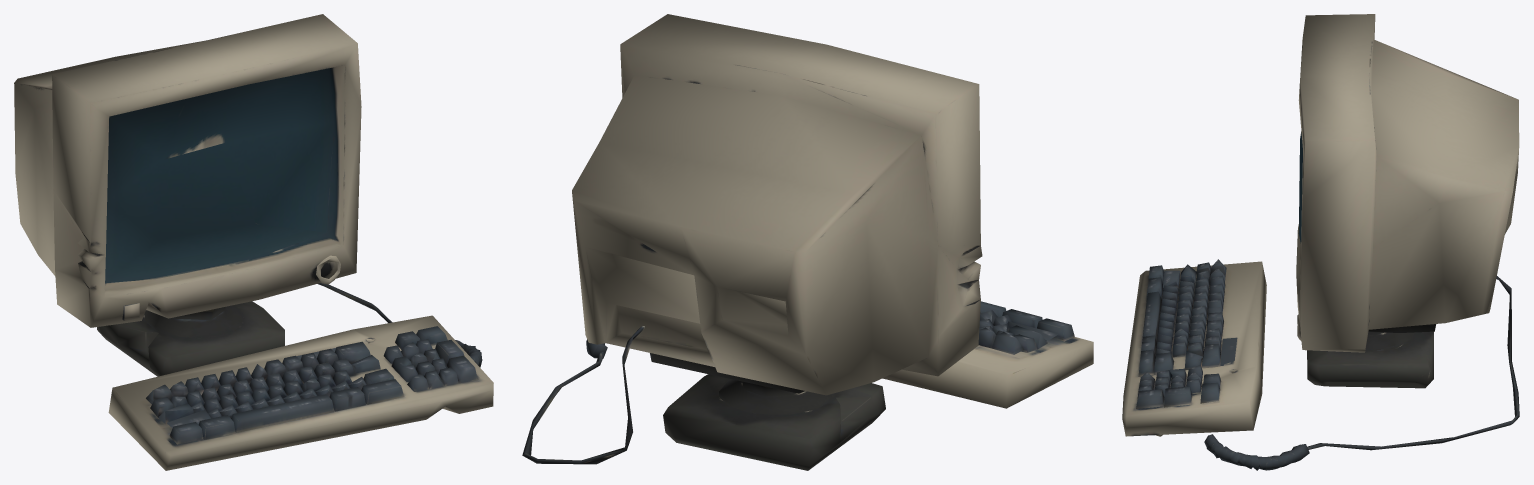
Rendered from crt_monitor.glb.
3 renders of one model, left to right at view 1: azimuth 30°, elevation 25°; view 2: azimuth 150°, elevation 25°; view 3: azimuth 270°, elevation 25°, orthographic. The views are drawn at different scales.
Visible parts, largest first — view 1: crt_monitor_LOD0; view 2: crt_monitor_LOD0; view 3: crt_monitor_LOD0.
Boxes of the visible parts, left/top/right/bottom form: crt_monitor_LOD0: left=14, top=14, right=493, bottom=470; crt_monitor_LOD0: left=522, top=14, right=1093, bottom=470; crt_monitor_LOD0: left=1122, top=14, right=1519, bottom=470.
Size of what is drawn, in the model's own units: 0.4921 by 0.4156 by 0.5.
Materials: 1 (1 with a texture image).
